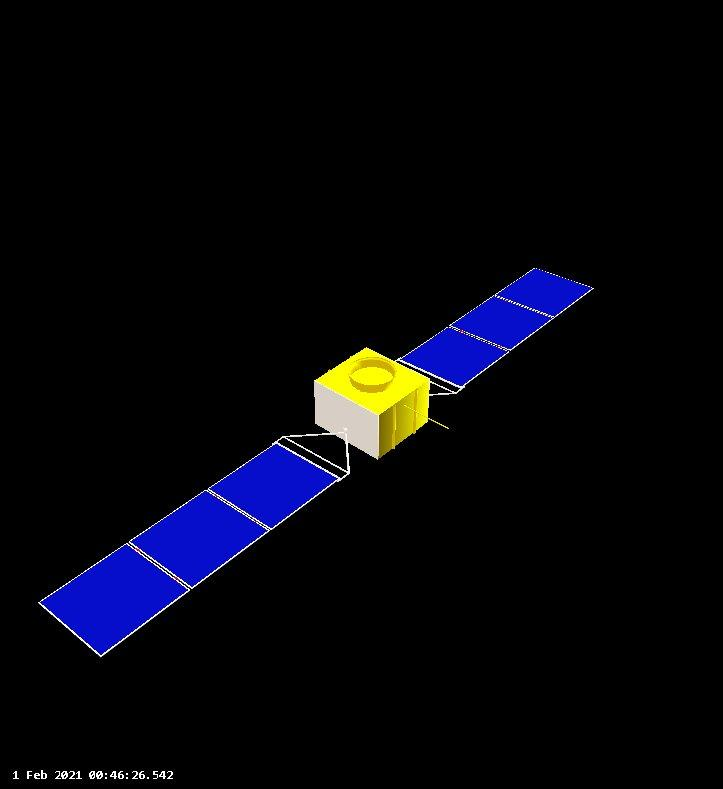antenna: (396, 400, 456, 433)
body: (310, 347, 434, 460)
solar: (37, 426, 354, 657), (393, 263, 597, 398)
thruster: (348, 356, 398, 392)
